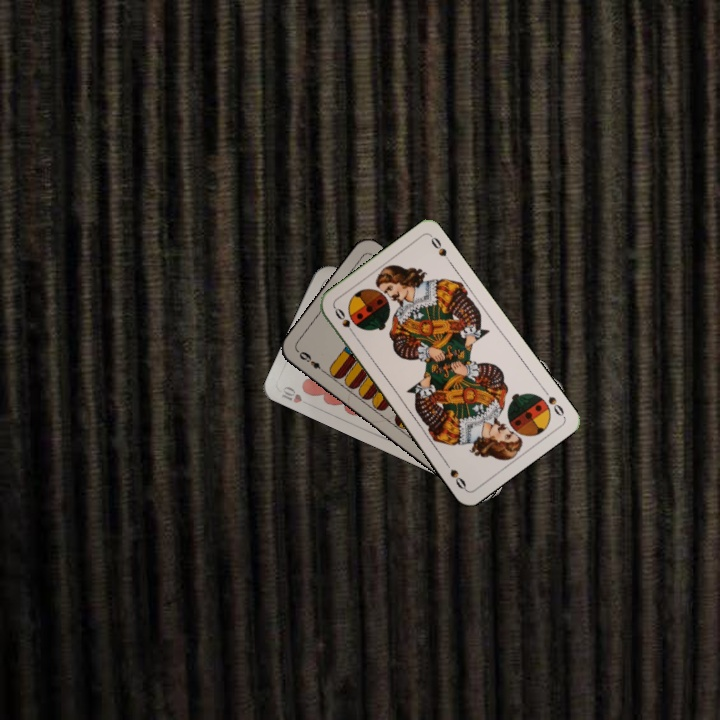E9: (295, 347, 328, 376)
H10: (277, 382, 315, 409)
SO: (330, 303, 358, 339), (544, 392, 567, 419)
